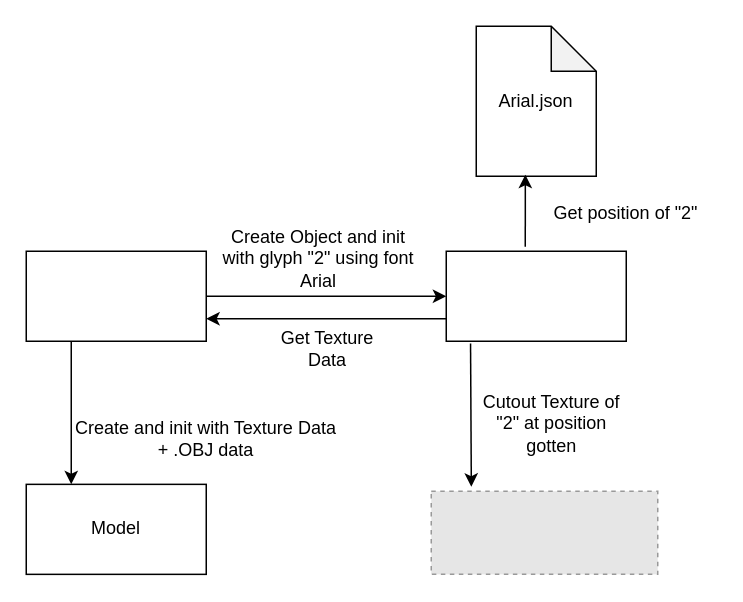
The diagram is 743 pixels wide and 602 high, and some of its shapes have lost their labels. Grey dashed boxes stand in for pictures. Each missing label, with the box of its shape:
Font: (445, 250, 626, 341)
index.js: (25, 250, 206, 341)
